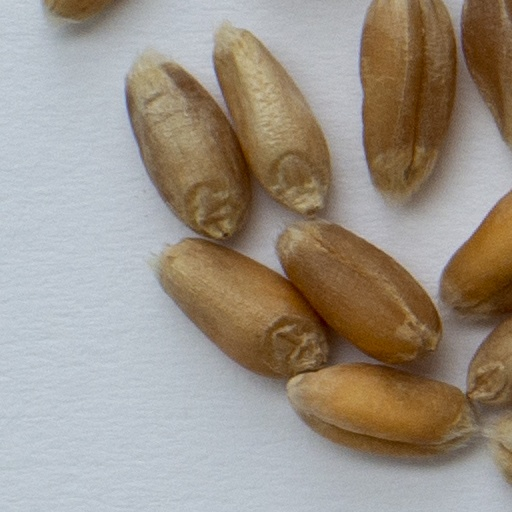Wheat-grain: (159, 242, 332, 376), (354, 0, 461, 215), (278, 223, 440, 360), (213, 23, 328, 215), (128, 54, 246, 237), (288, 365, 472, 454), (441, 193, 511, 320), (459, 0, 511, 146), (469, 321, 511, 404), (486, 413, 511, 483), (44, 0, 111, 21)
